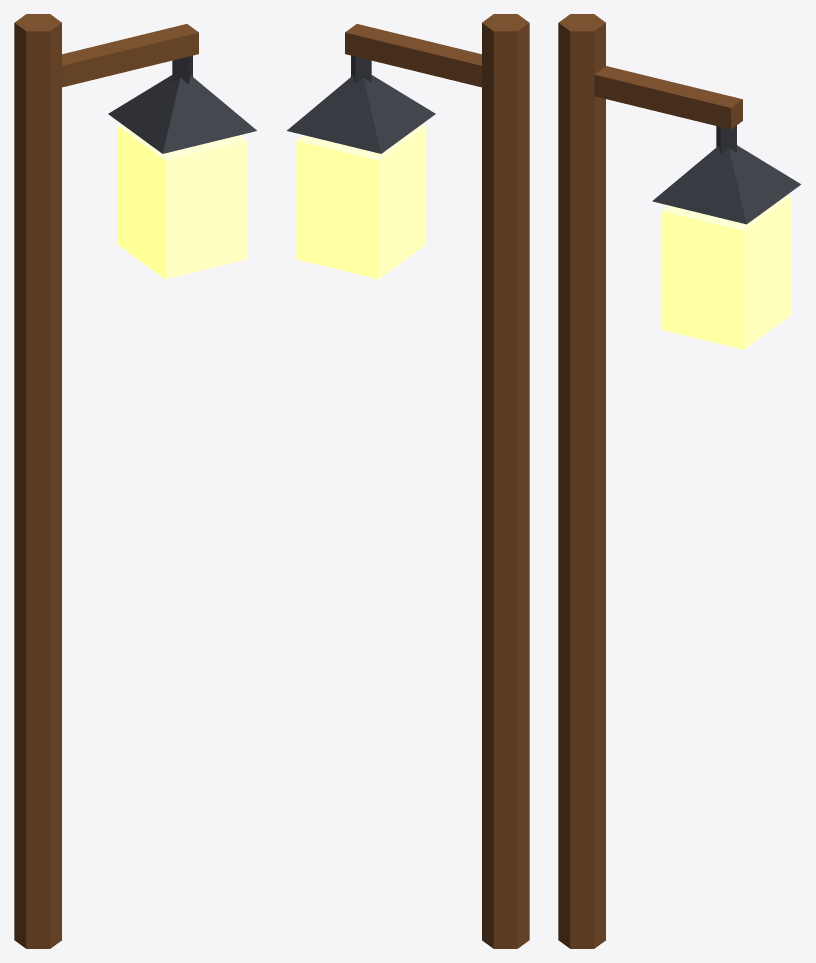
Rendered from swamp_lantern.glb.
3 views of the same model, side by side, from view 1: azimuth 30°, elevation 25°; view 2: azimuth 150°, elevation 25°; view 3: azimuth 330°, elevation 25° (orthographic).
Parts seen in each view (by area): view 1: swamp_lantern; view 2: swamp_lantern; view 3: swamp_lantern.
Part boxes in pixels (x1,y1,x2,y2): swamp_lantern: (14, 14, 256, 948); swamp_lantern: (287, 14, 529, 948); swamp_lantern: (558, 14, 800, 948).
Size of the model in its own units: 0.4066 by 1.7 by 0.1838.
